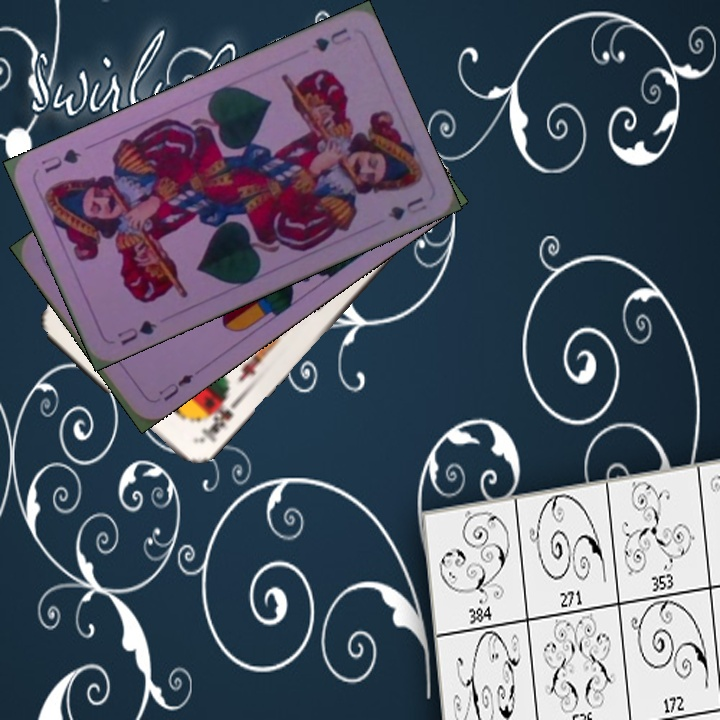EU: (149, 369, 196, 406)
GU: (113, 316, 160, 349), (308, 23, 354, 55)
SK: (192, 391, 241, 446)
